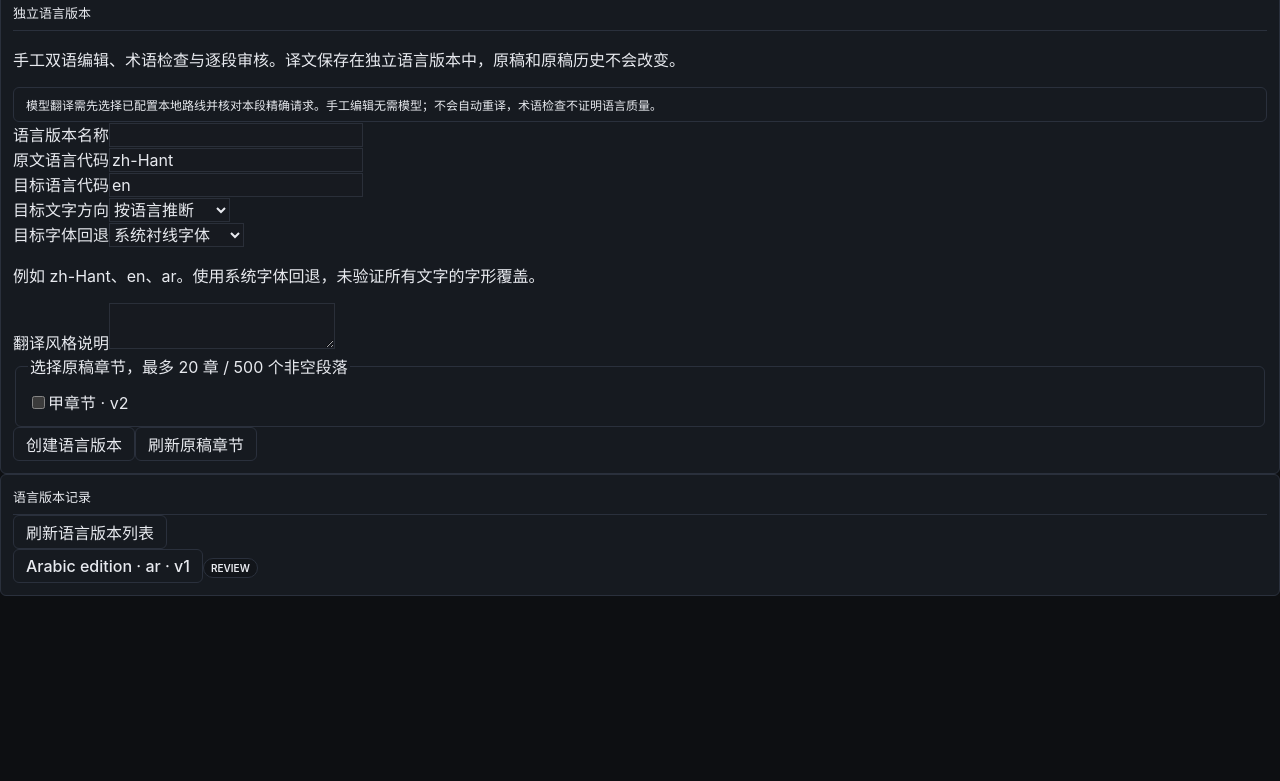
it: keeps the composing original textarea mounted before its first change event
The width and height of the screenshot is (1280, 781).
Click the button "Arabic edition · ar · v1" at x=108, y=566, box [13, 549, 203, 583]
(page scrolled)
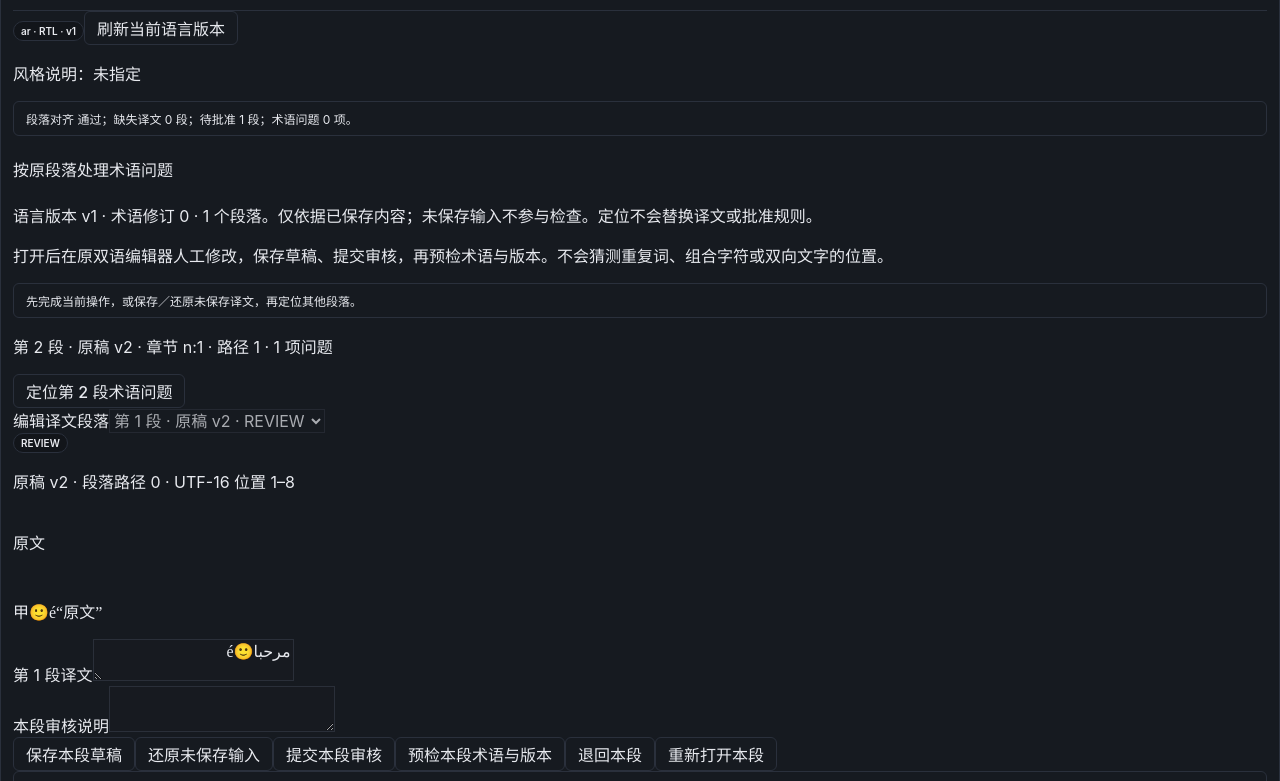
Expected: the button "定位第 2 段术语问题" is disabled
Click the button "定位第 2 段术语问题" at x=99, y=390, box [13, 374, 185, 408]
(page scrolled)
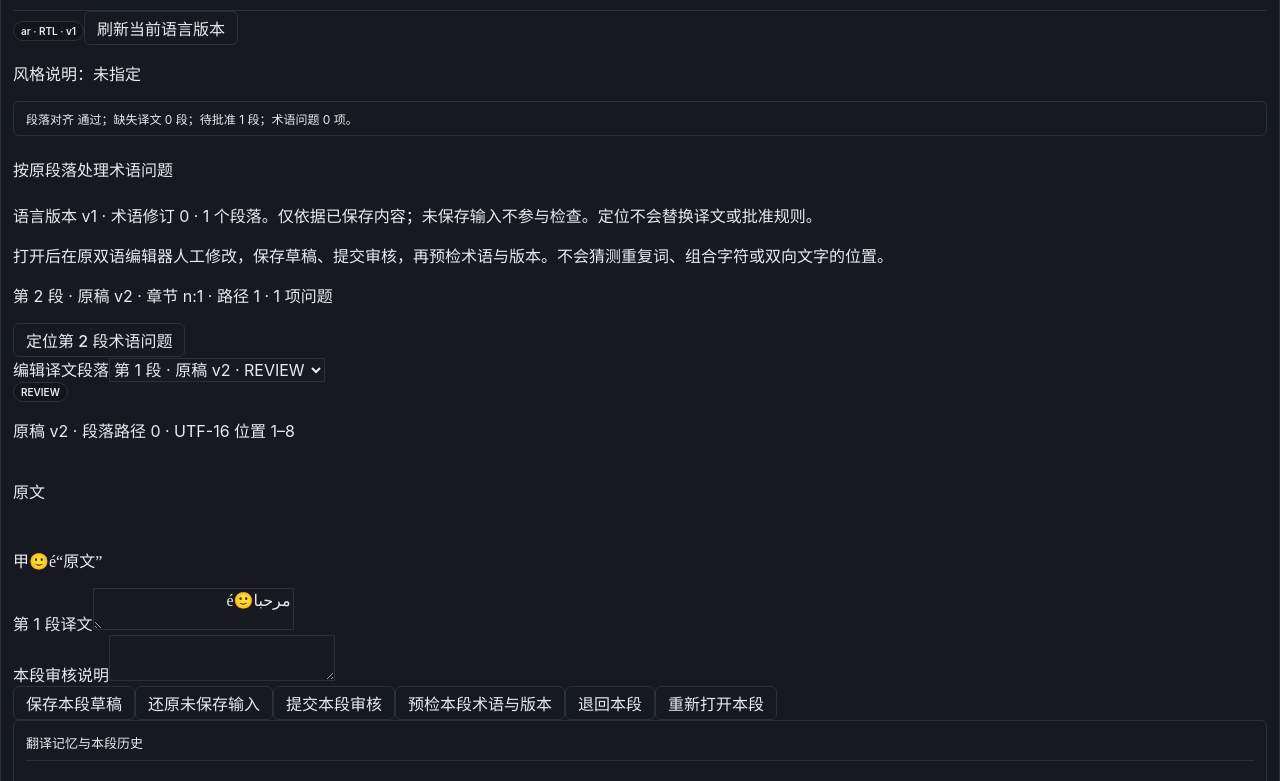
Expected: the text box labelled "第 1 段译文" is enabled, [92, 588, 294, 630]
Click the button "定位第 2 段术语问题" at x=99, y=340, box [13, 322, 185, 356]
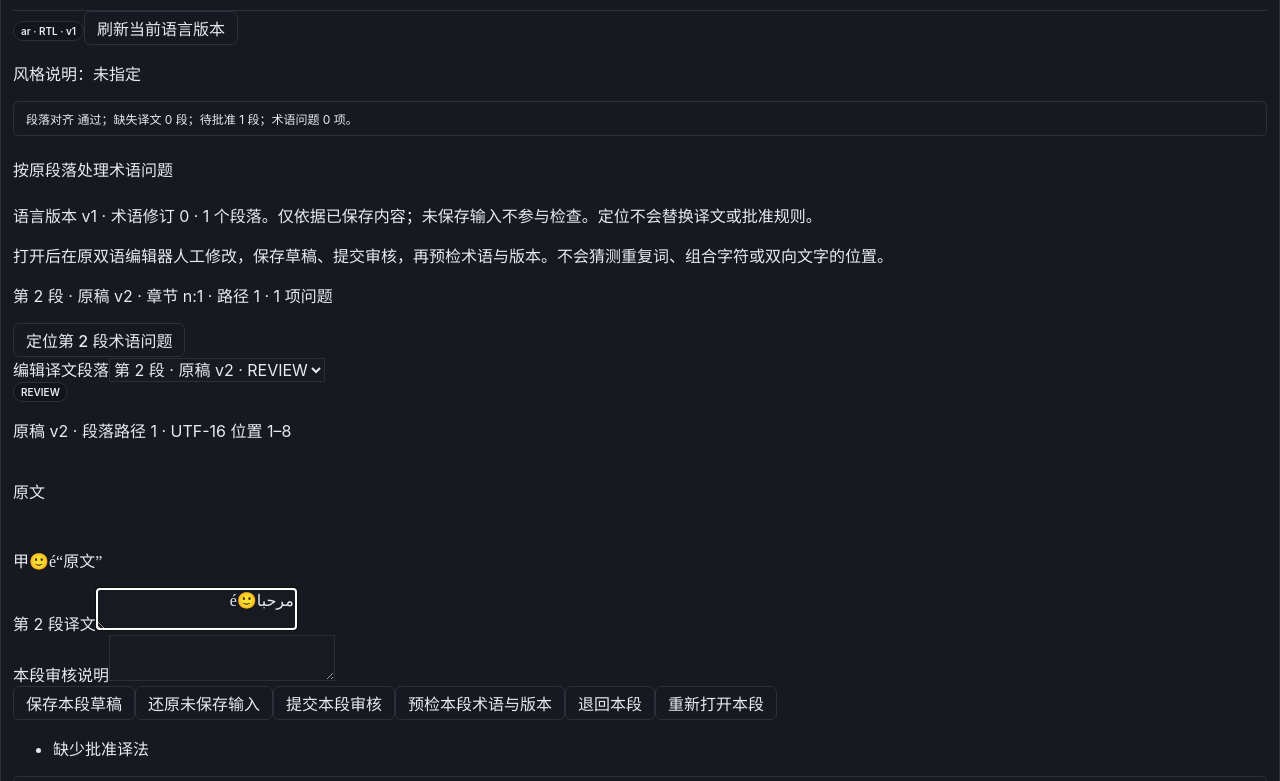
Expected: the text box labelled "第 2 段译文" is shown, [96, 588, 297, 630]
